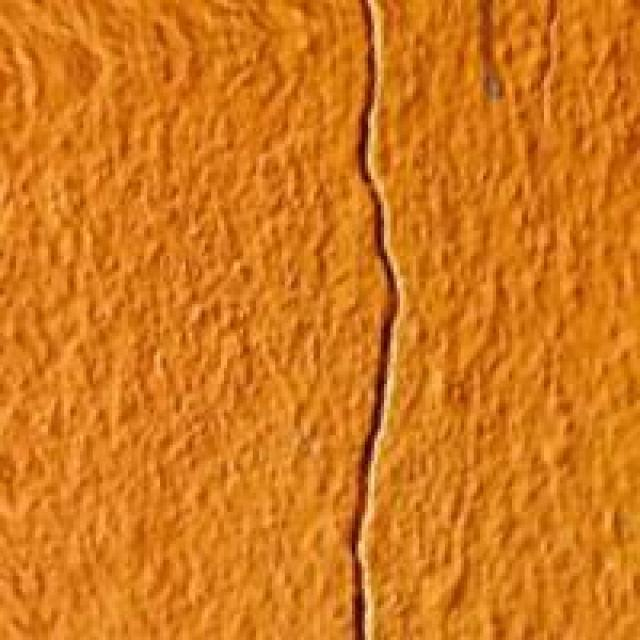Crack: (278, 0, 454, 637)
